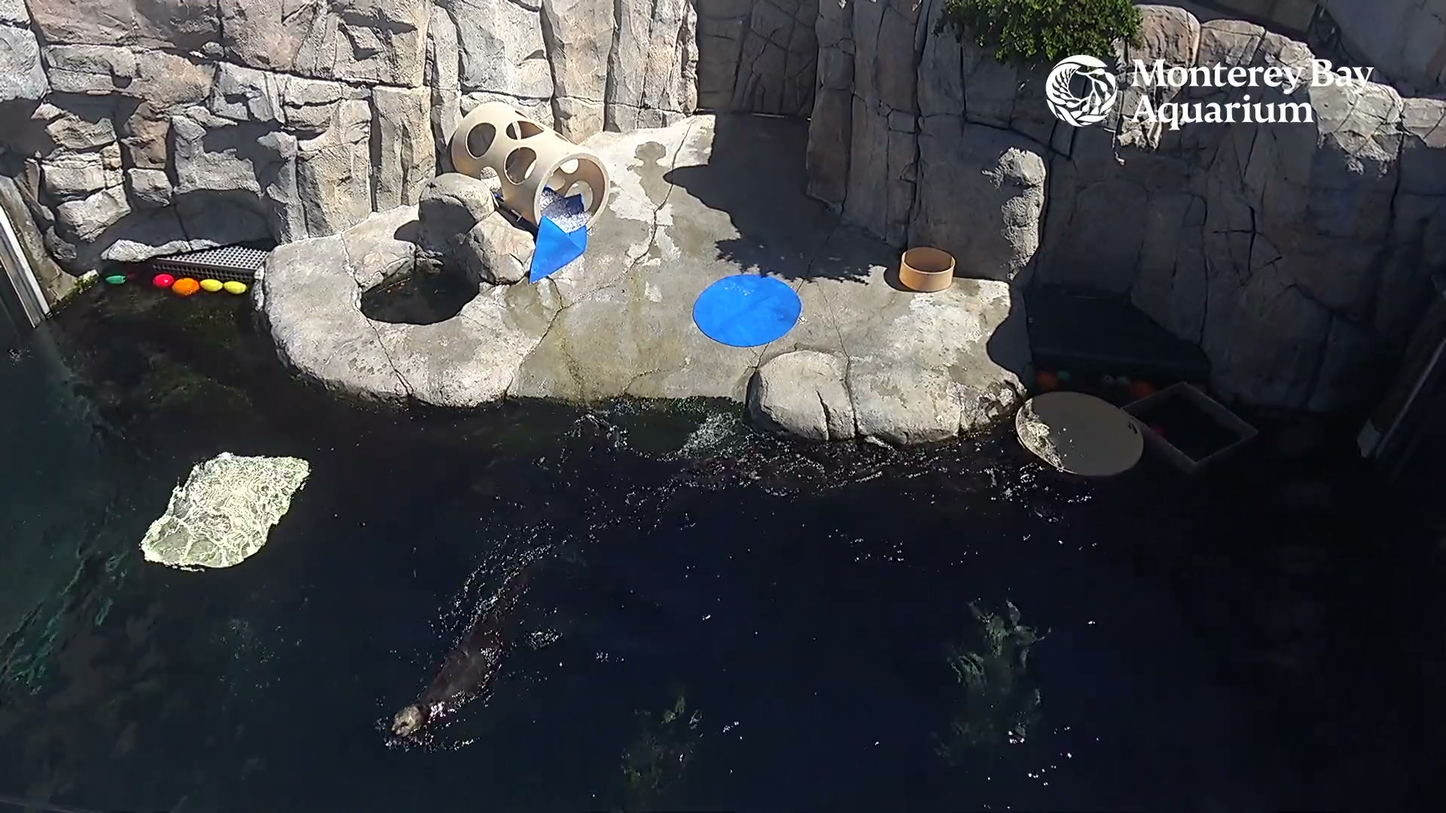Southern Sea Otter: (370, 537, 557, 767)
